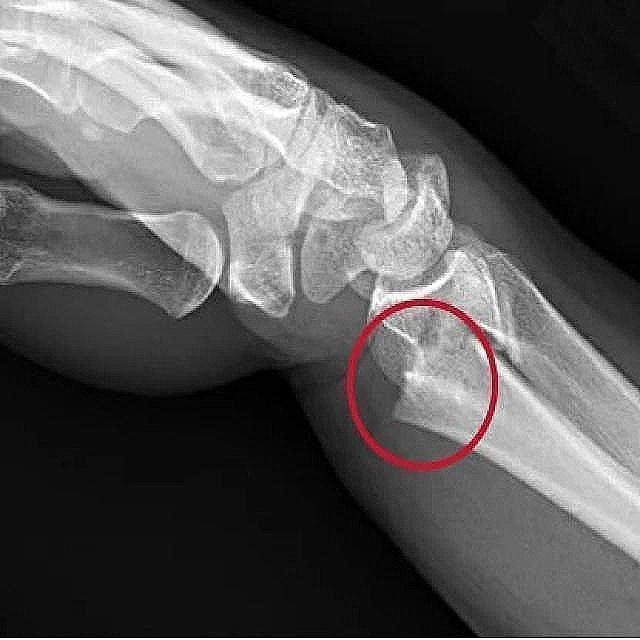bone: (372, 294, 494, 465)
